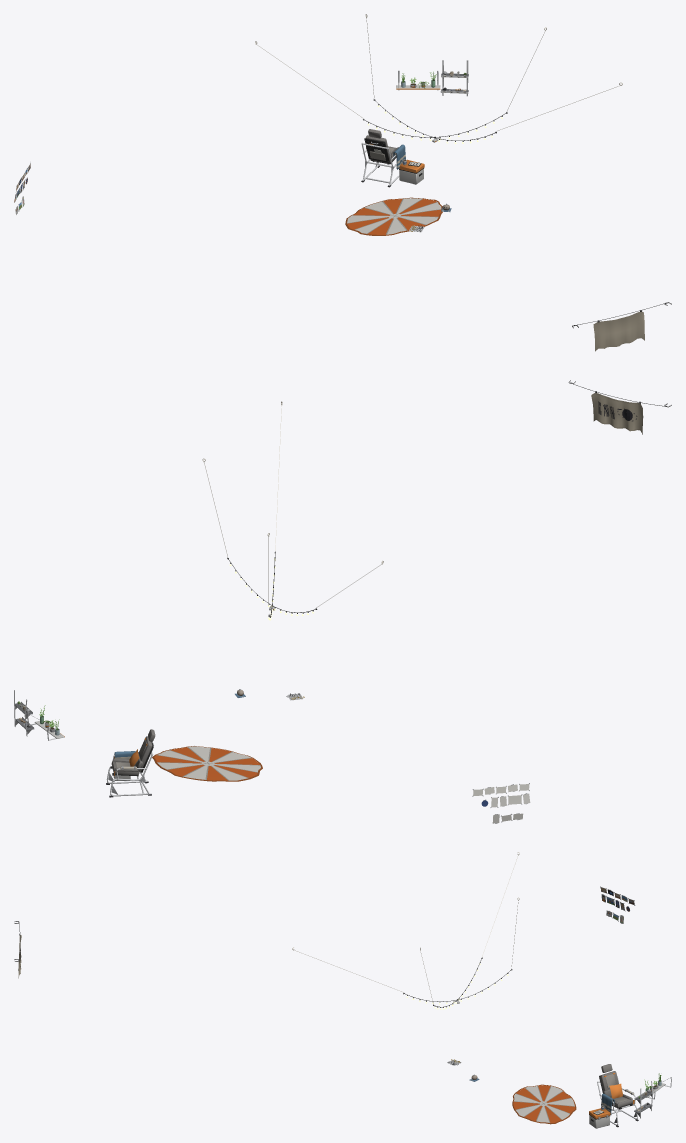
Rendered from hab_comforts.glb.
The picture shows the model from 3 angles, top to bottom: view 1: azimuth 30°, elevation 25°; view 2: azimuth 150°, elevation 25°; view 3: azimuth 270°, elevation 25°; orthographic projection. The views are drawn at different scales.
Parts seen in each view (by area): view 1: rug_body_mesh, chair_body_mesh, flag_body_mesh, lights_body_mesh; view 2: rug_body_mesh, chair_body_mesh, flag_body_mesh, photos_body_mesh, lights_body_mesh; view 3: rug_body_mesh, chair_body_mesh, lights_body_mesh, photos_body_mesh.
Part boxes in pixels (bbox=[...]): rug_body_mesh: bbox=[345, 197, 442, 235]; chair_body_mesh: bbox=[361, 129, 424, 187]; flag_body_mesh: bbox=[572, 302, 671, 351]; lights_body_mesh: bbox=[255, 14, 622, 143]; rug_body_mesh: bbox=[152, 746, 262, 781]; chair_body_mesh: bbox=[106, 729, 155, 797]; flag_body_mesh: bbox=[568, 380, 671, 434]; photos_body_mesh: bbox=[472, 783, 530, 823]; lights_body_mesh: bbox=[202, 401, 383, 620]; rug_body_mesh: bbox=[512, 1084, 576, 1124]; chair_body_mesh: bbox=[589, 1064, 638, 1128]; lights_body_mesh: bbox=[292, 852, 519, 1009]; photos_body_mesh: bbox=[600, 886, 635, 923].
Size of the model in its own units: 11.1 by 4.98 by 15.71.
